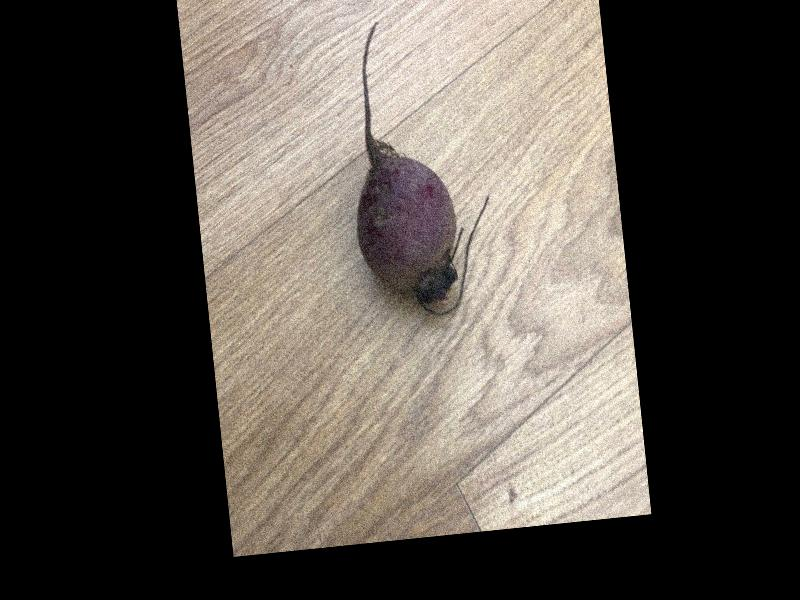Beet: (335, 11, 500, 323)
